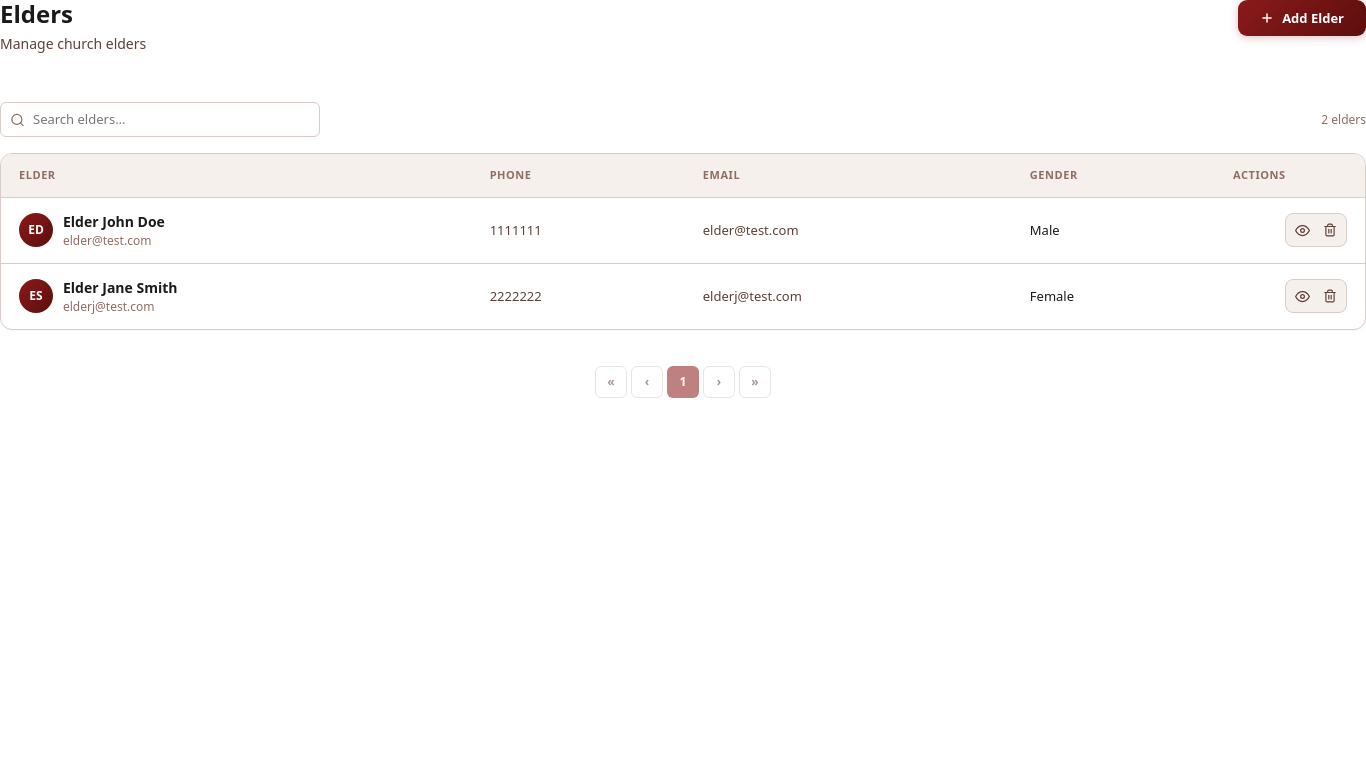
Test: Elders › opens add elder modal
Click the button "Add Elder". click: (1302, 18)
box: top-left (1238, 0), bottom-right (1365, 36)
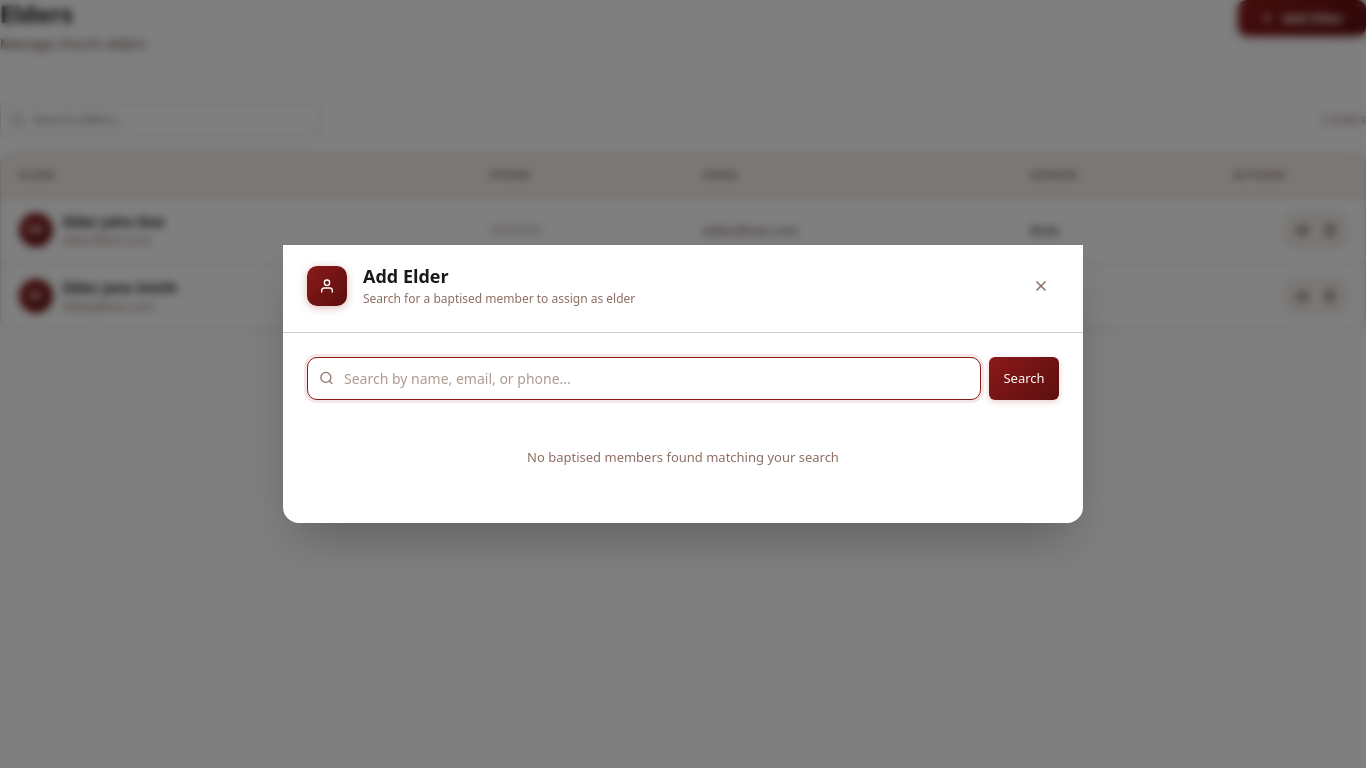
expect the heading "Add Elder" is shown: met, box top-left (363, 264), bottom-right (449, 288)
